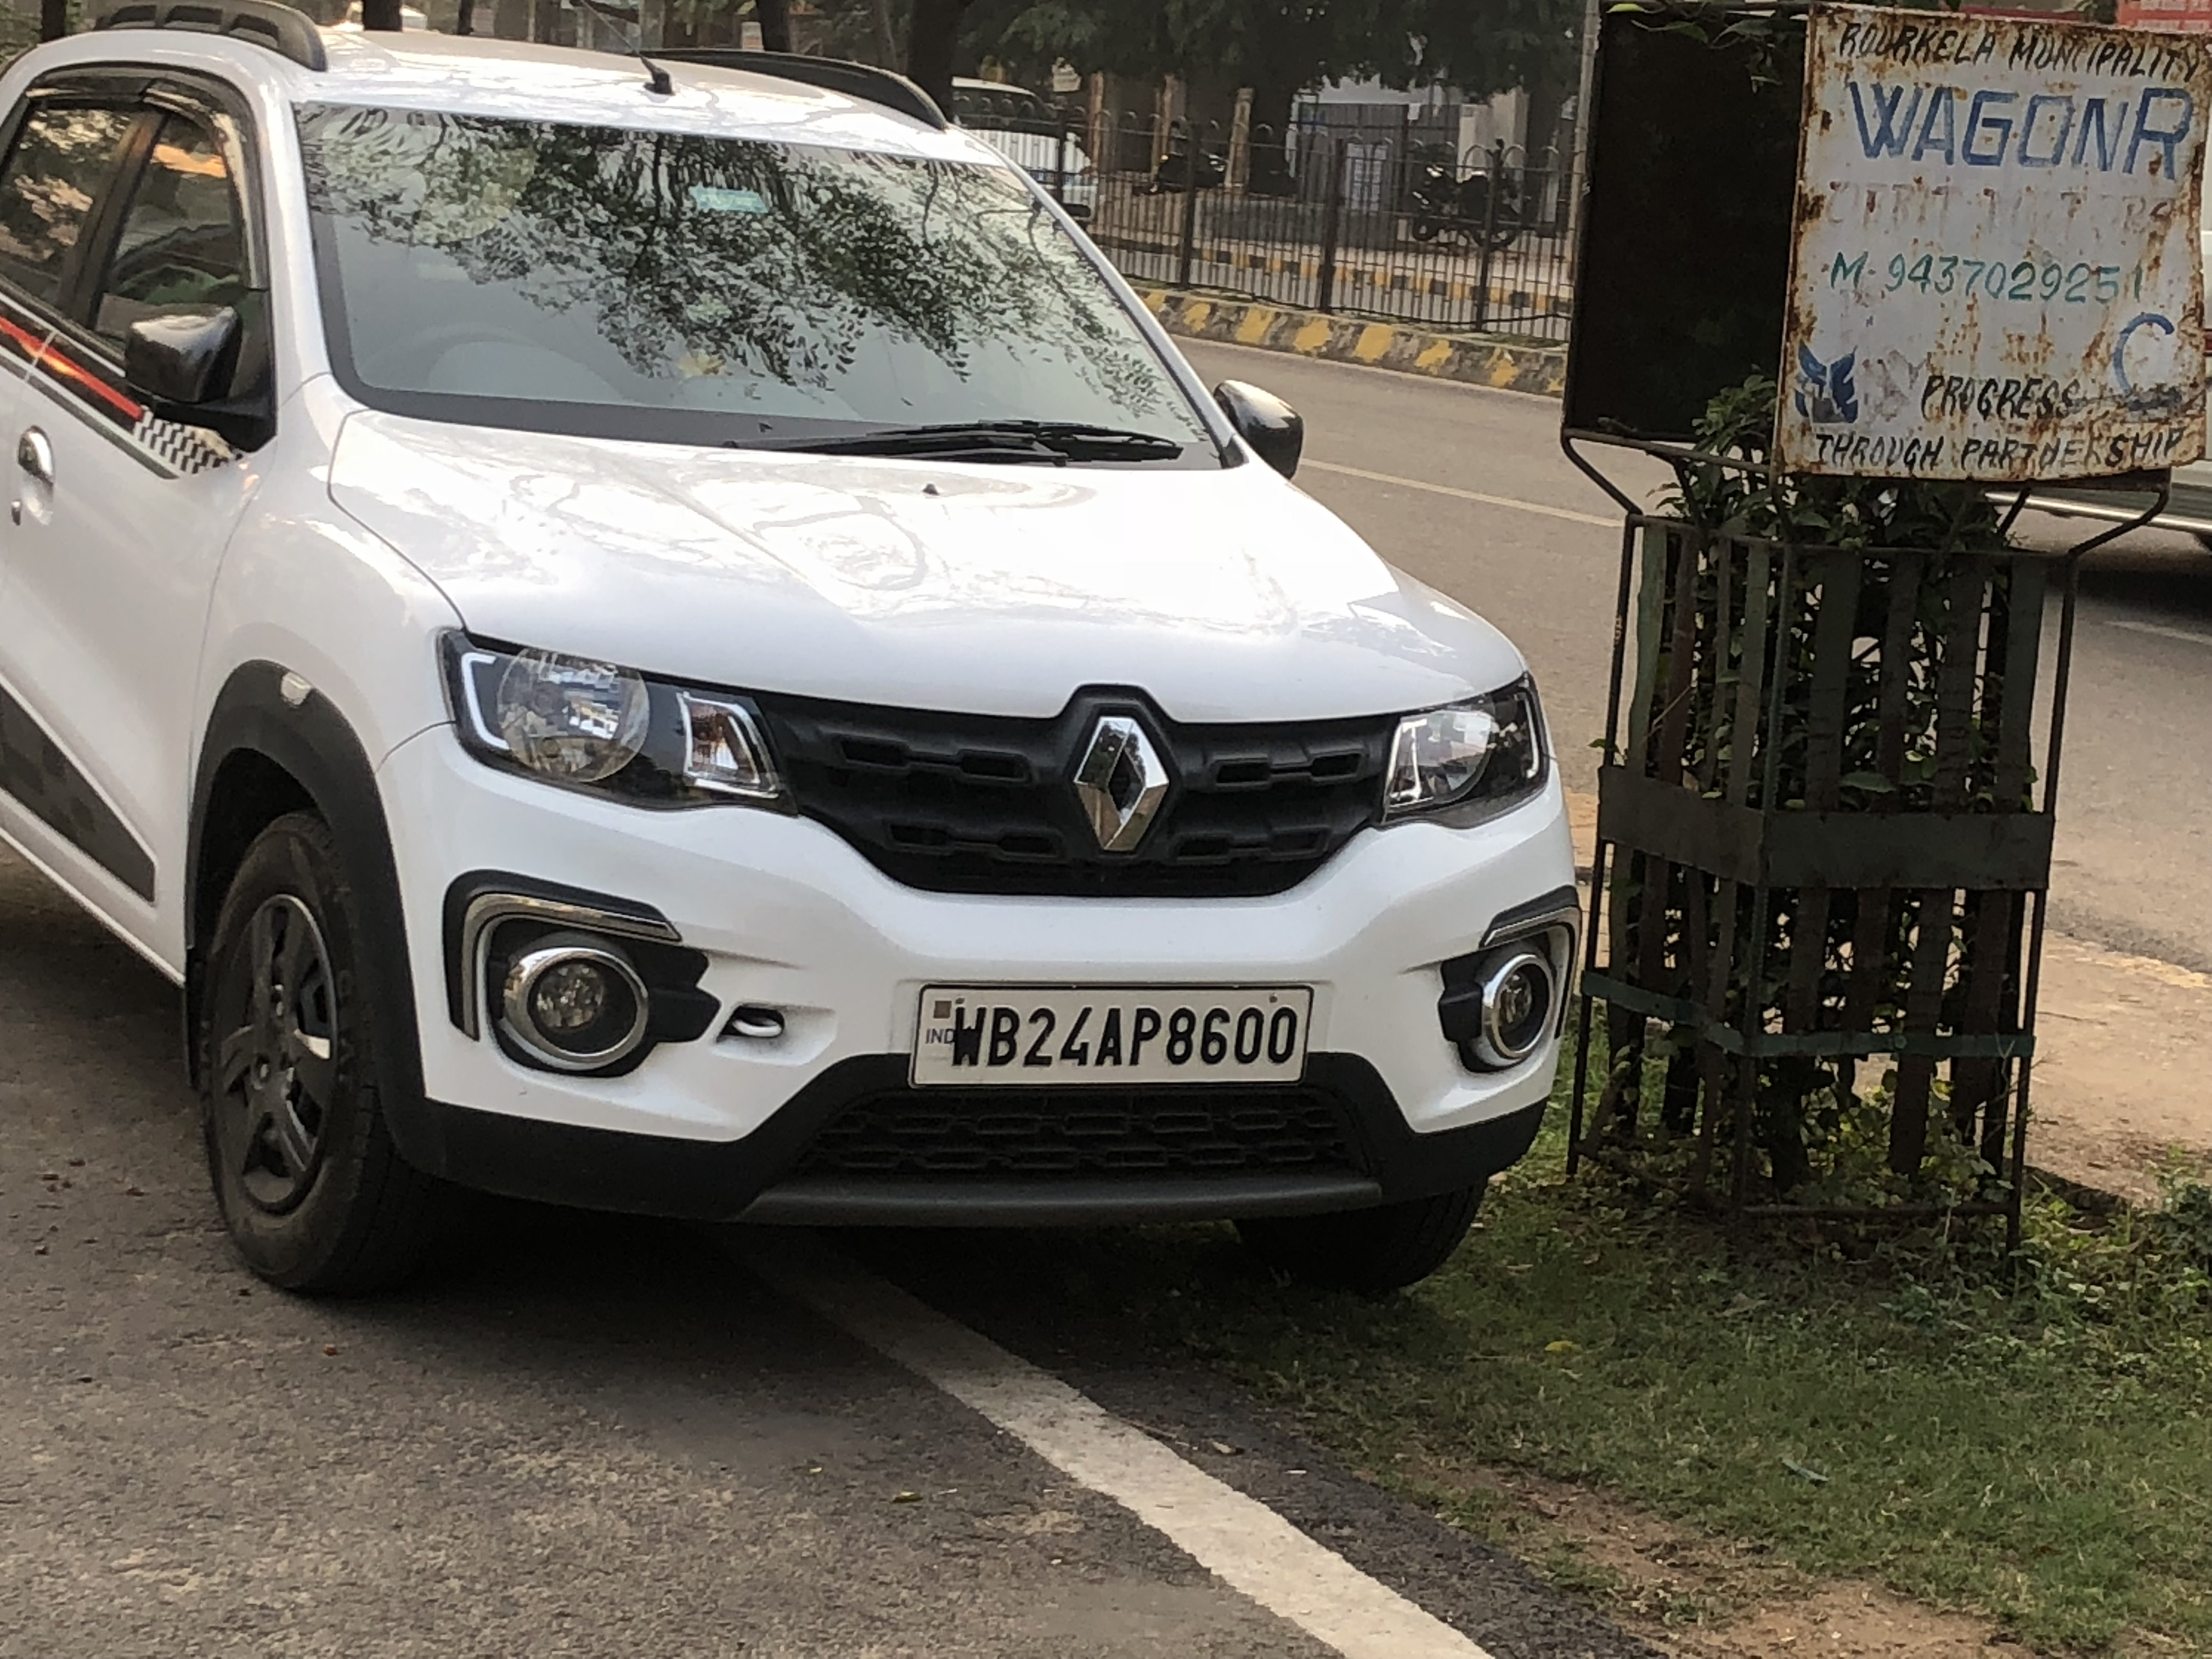licenseplate: (900, 967, 1320, 1095)
